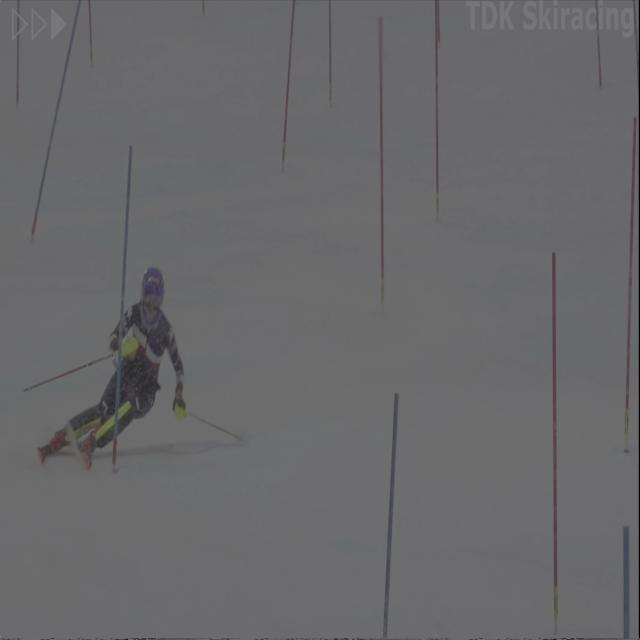gate: (533, 231, 581, 640), (26, 4, 96, 272), (375, 386, 403, 640), (368, 16, 388, 311), (428, 0, 448, 221), (4, 0, 31, 151)
